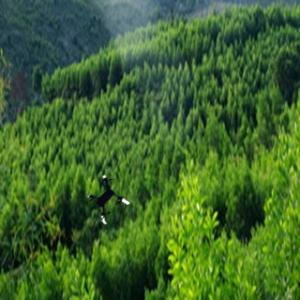drone: (85, 176, 136, 227)
